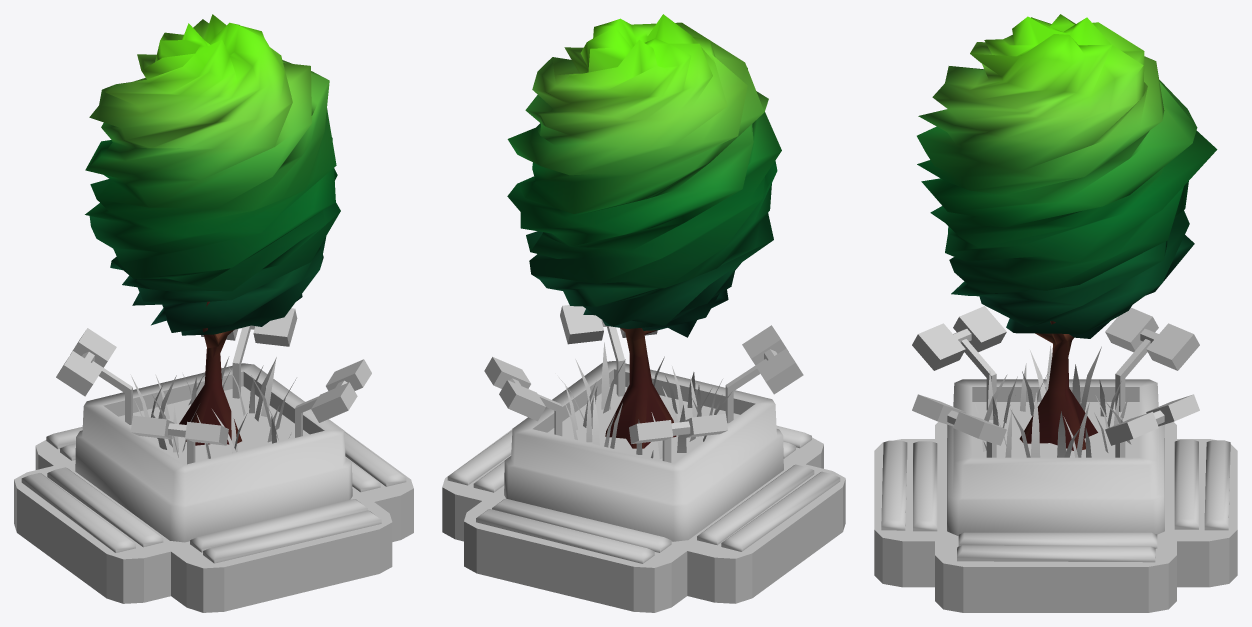
File: Bench_2A.fbx
3 views of the same model, side by side, from view 1: azimuth 30°, elevation 25°; view 2: azimuth 150°, elevation 25°; view 3: azimuth 270°, elevation 25° (orthographic). The views are drawn at different scales.
Parts seen in each view (by area): view 1: Bench_2A, Bench_2A_Tree, Bench_2A_Lights; view 2: Bench_2A_Tree, Bench_2A, Bench_2A_Lights; view 3: Bench_2A_Tree, Bench_2A, Bench_2A_Lights.
Boxes of the visible parts, x1,y1,x2,y2 form: Bench_2A: [14, 356, 413, 612]; Bench_2A_Tree: [85, 14, 340, 445]; Bench_2A_Lights: [56, 308, 371, 464]; Bench_2A_Tree: [507, 14, 781, 448]; Bench_2A: [442, 342, 845, 612]; Bench_2A_Lights: [484, 305, 803, 462]; Bench_2A_Tree: [917, 14, 1217, 450]; Bench_2A: [874, 346, 1237, 612]; Bench_2A_Lights: [912, 306, 1199, 457].
Bounding box in the file's own units: 5 × 7.85 × 5.
